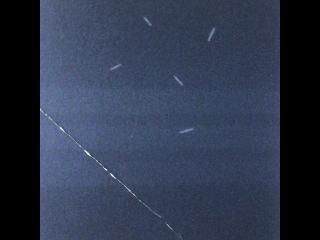crack: (40, 108, 183, 240)
scratch: (141, 14, 156, 30), (170, 72, 185, 87), (207, 25, 216, 42), (109, 62, 124, 71), (178, 127, 196, 134)
